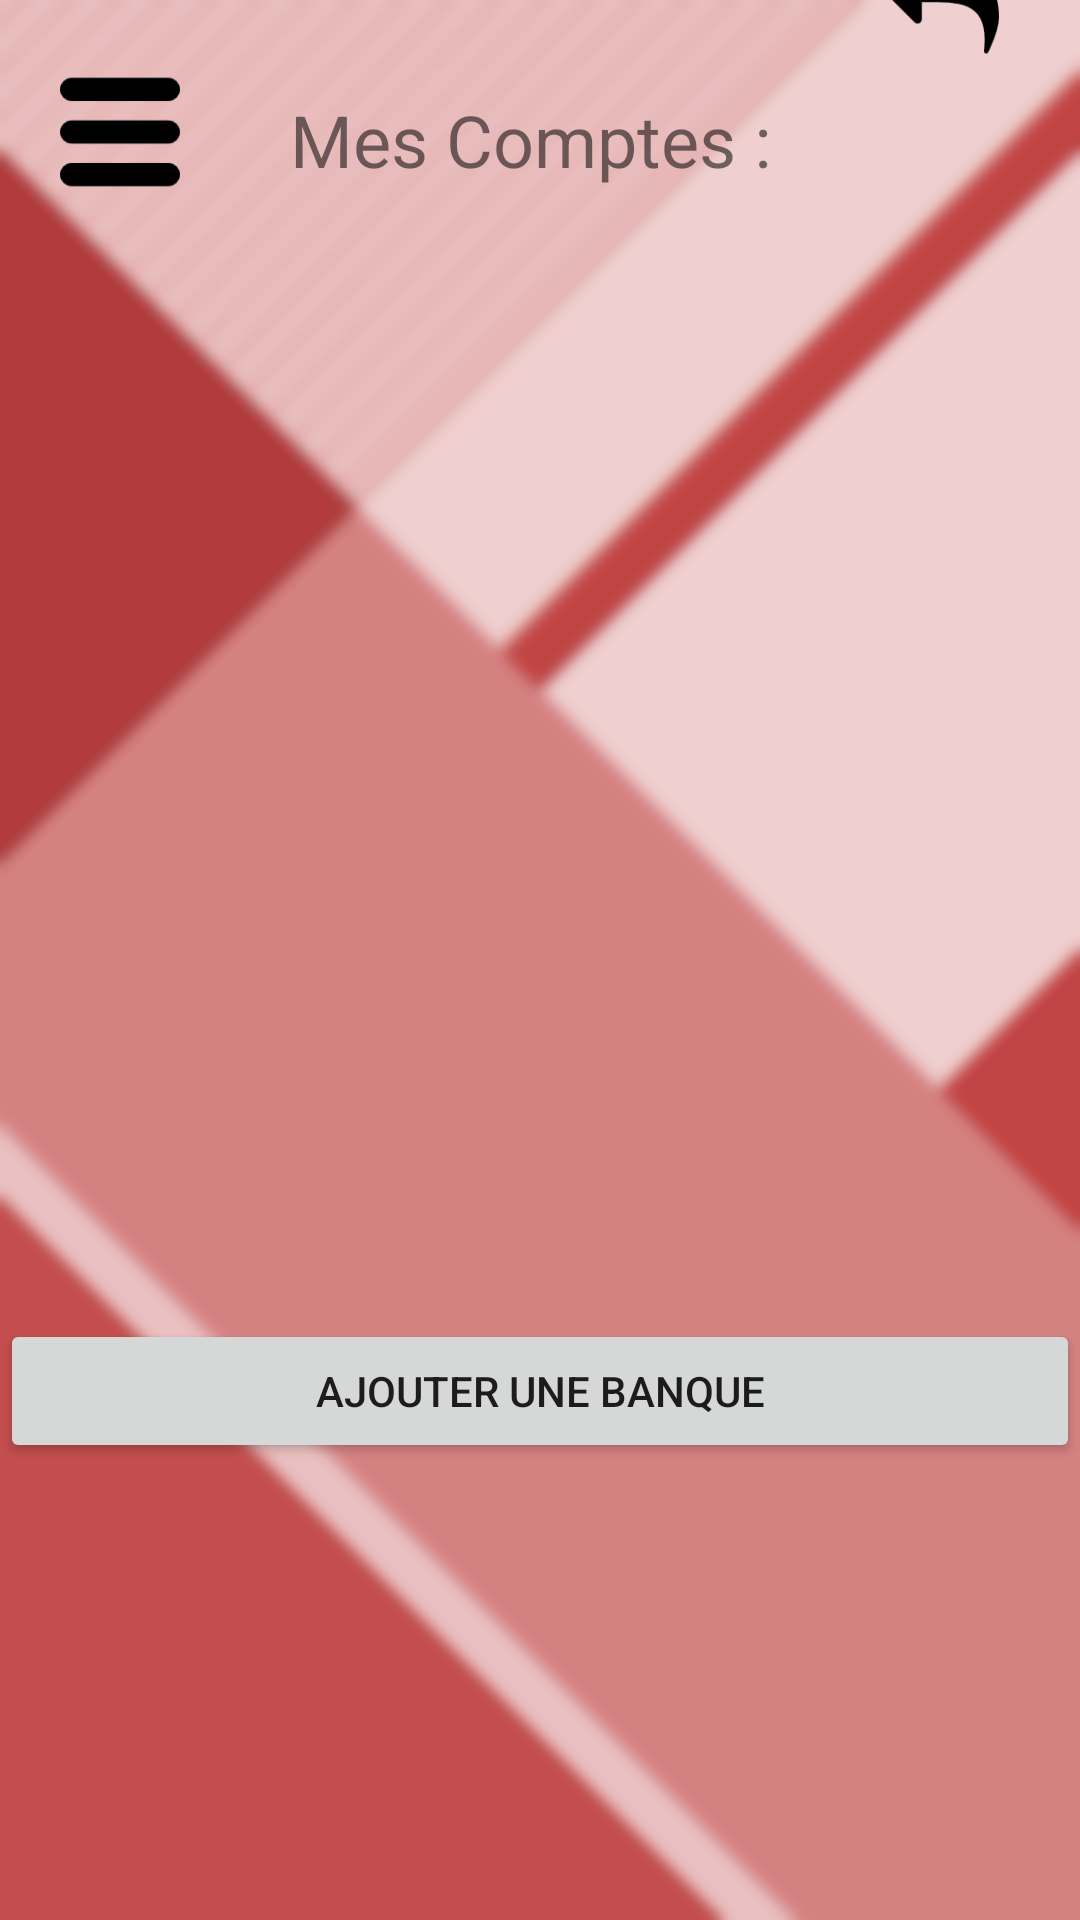

Where to tap for icons on this 1080px x 1920px app screen, as [x,y]:
burger: [120,132]
